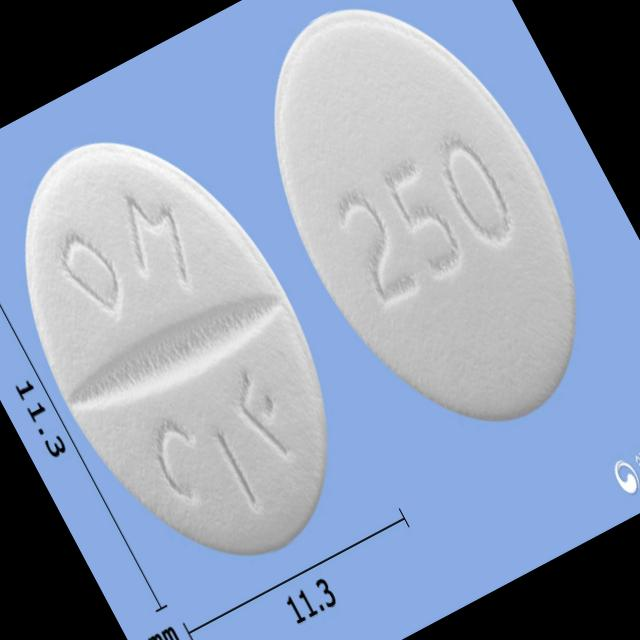Cifxacin: (202, 0, 640, 482), (0, 84, 396, 612)
